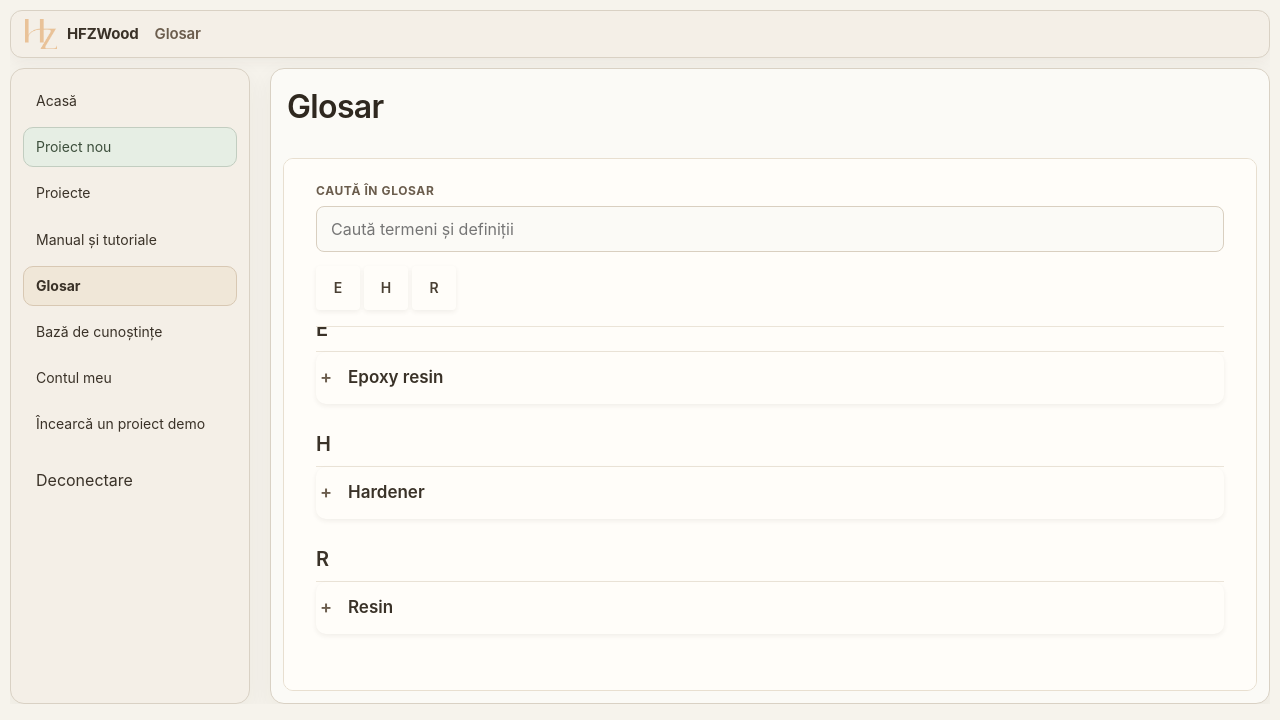
Scenario: GlossaryPage › renders discreet relationship rows when expanded
The image size is (1280, 720).
(page scrolled)
Click the button "+ Resin": x=371, y=607 316,582 -> 1224,634
(page scrolled)
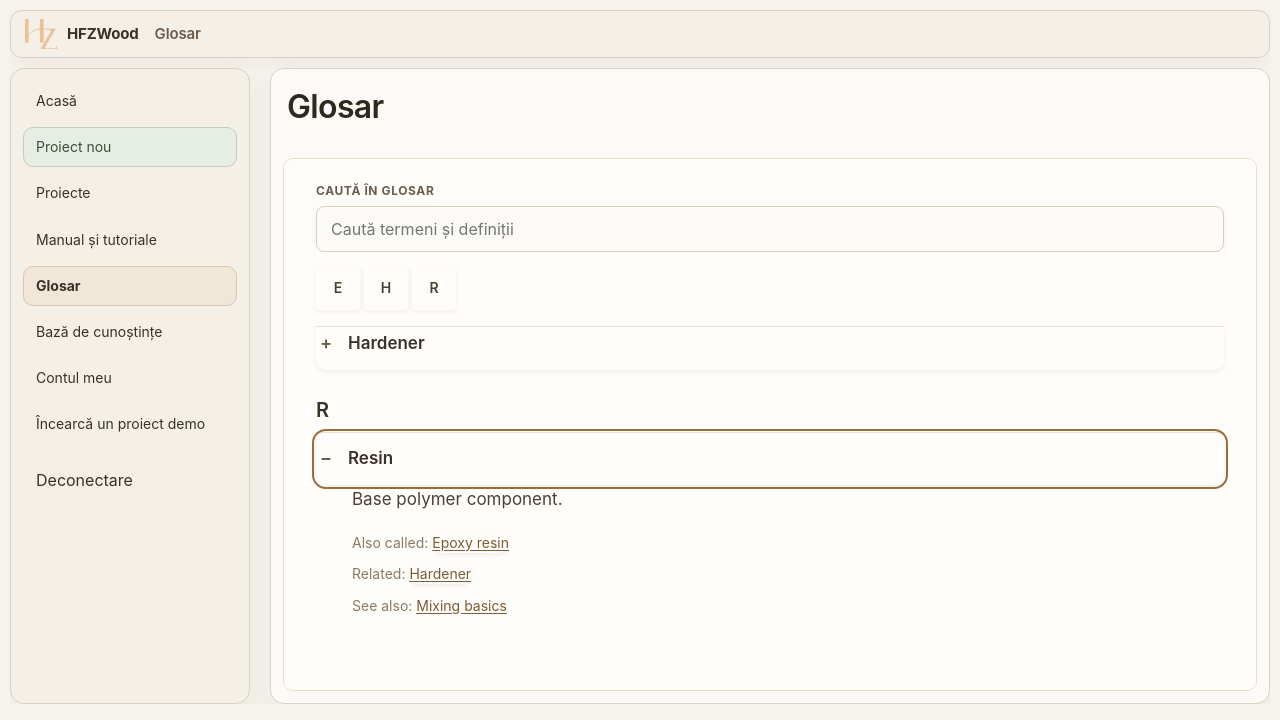
Check: the text "Also called:" is shown, box 352,534 -> 428,551
Check: the button "Epoxy resin" is shown, box 432,532 -> 509,553
Check: the text "Related:" is shown, box 352,565 -> 405,582
